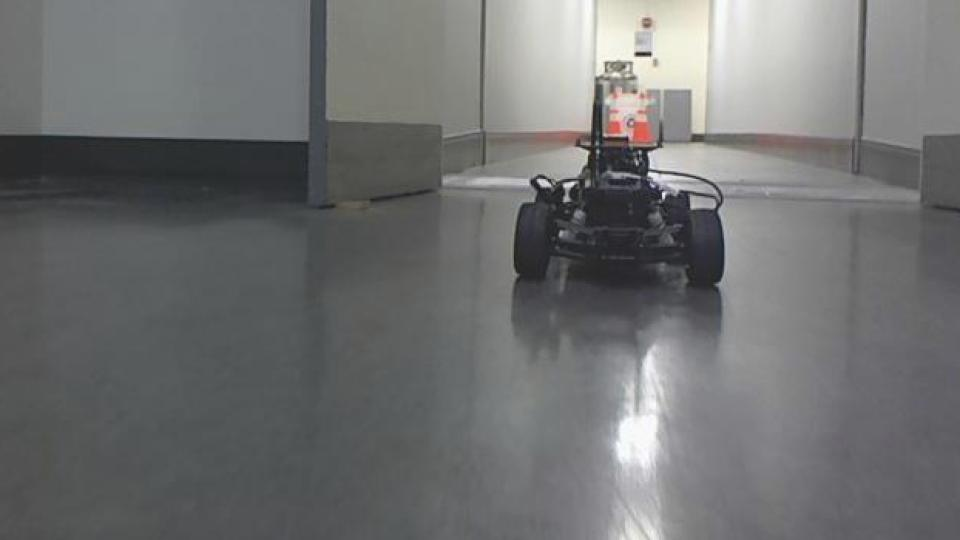car: (511, 59, 730, 290)
